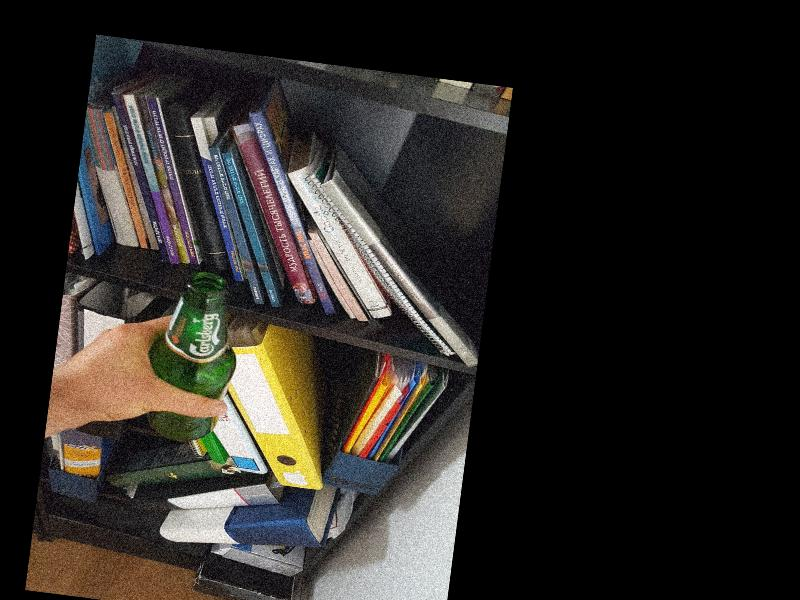Beer: (141, 267, 245, 448)
